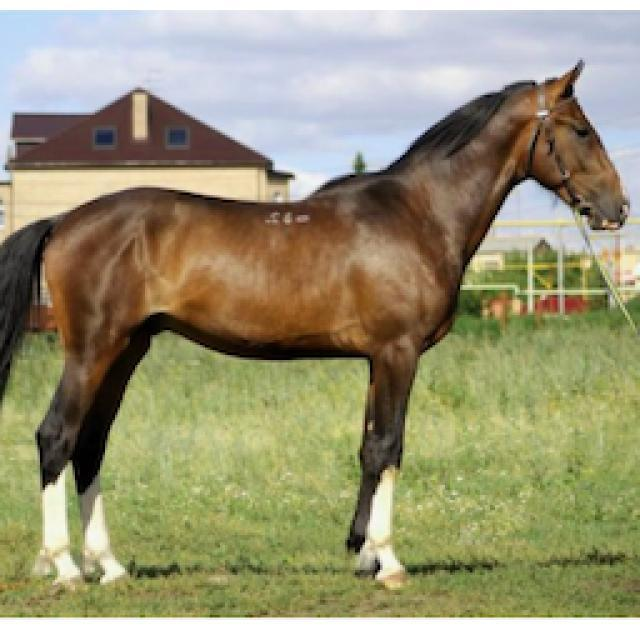Horse: (2, 55, 640, 595)
